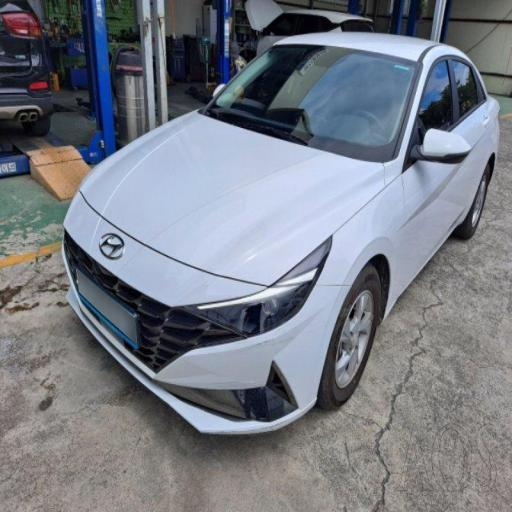broken: (371, 128, 423, 228)
